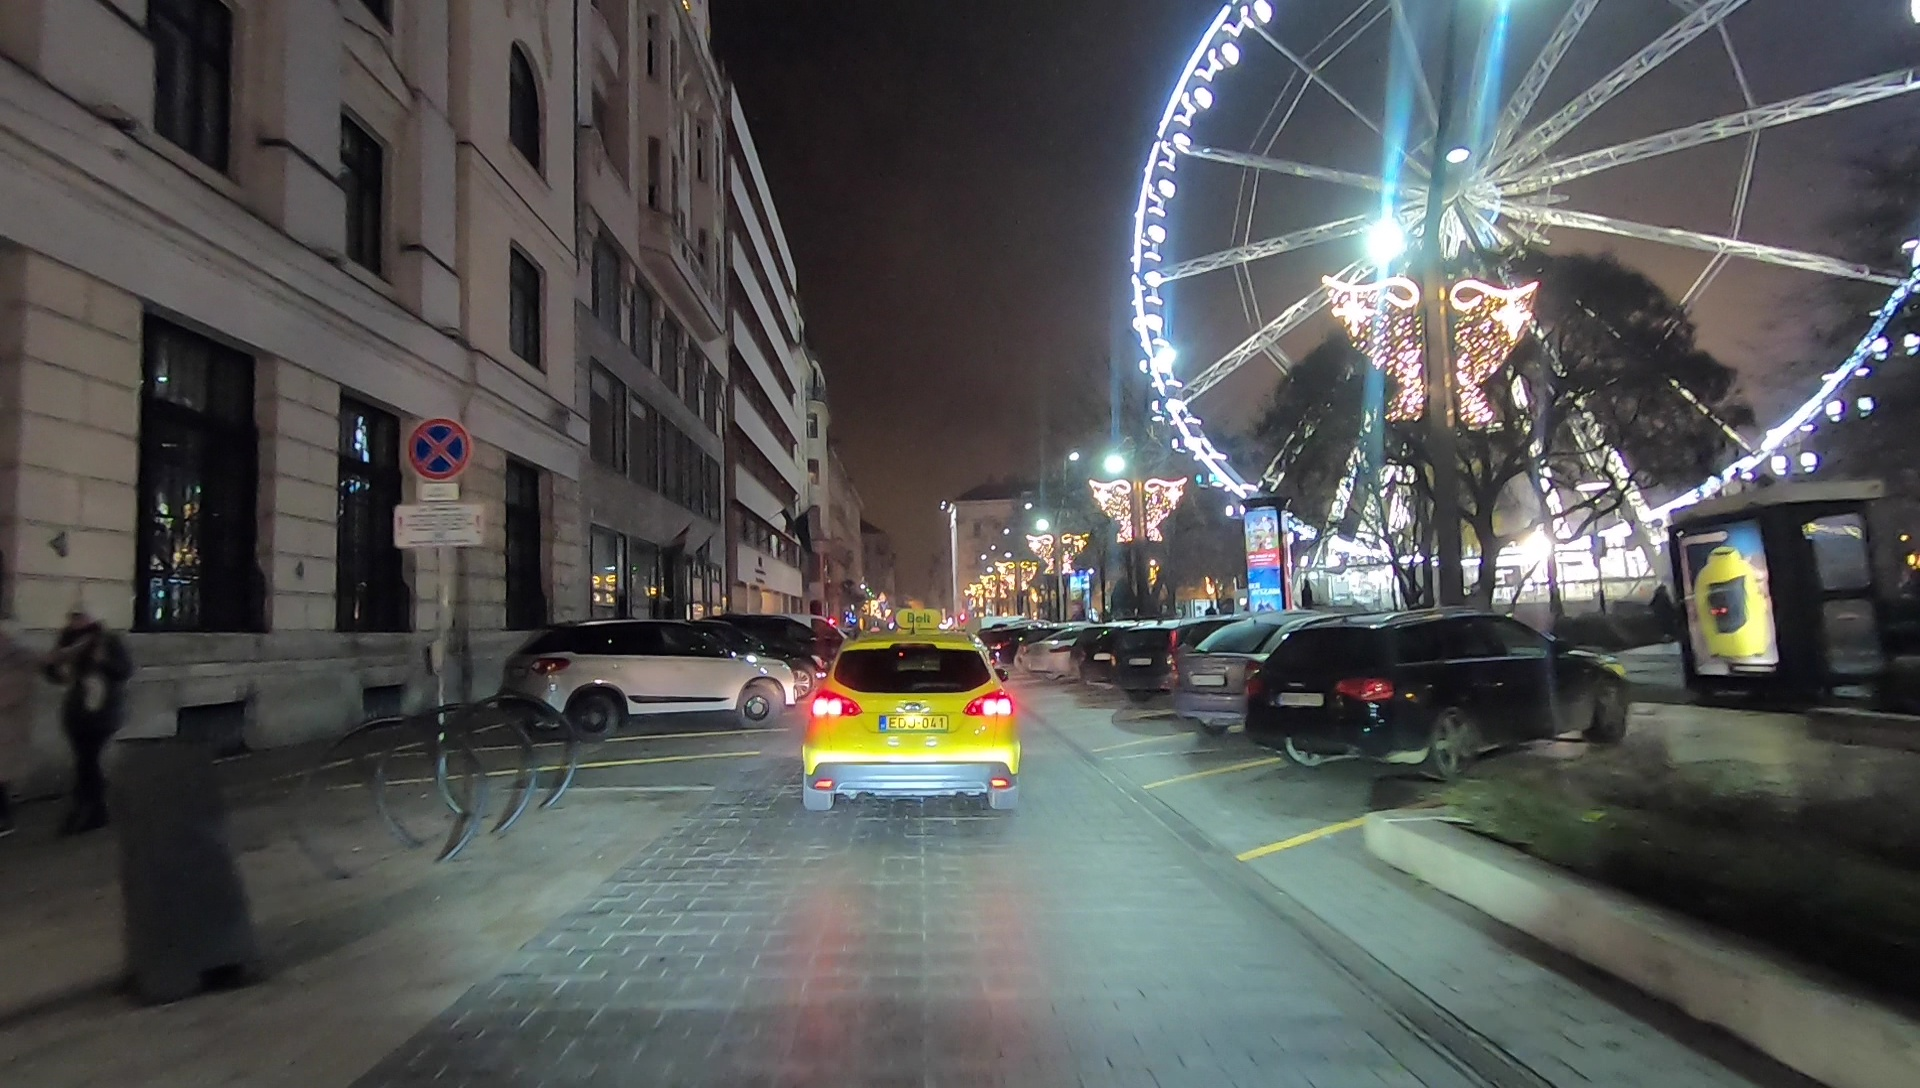person: (54, 599, 132, 826)
